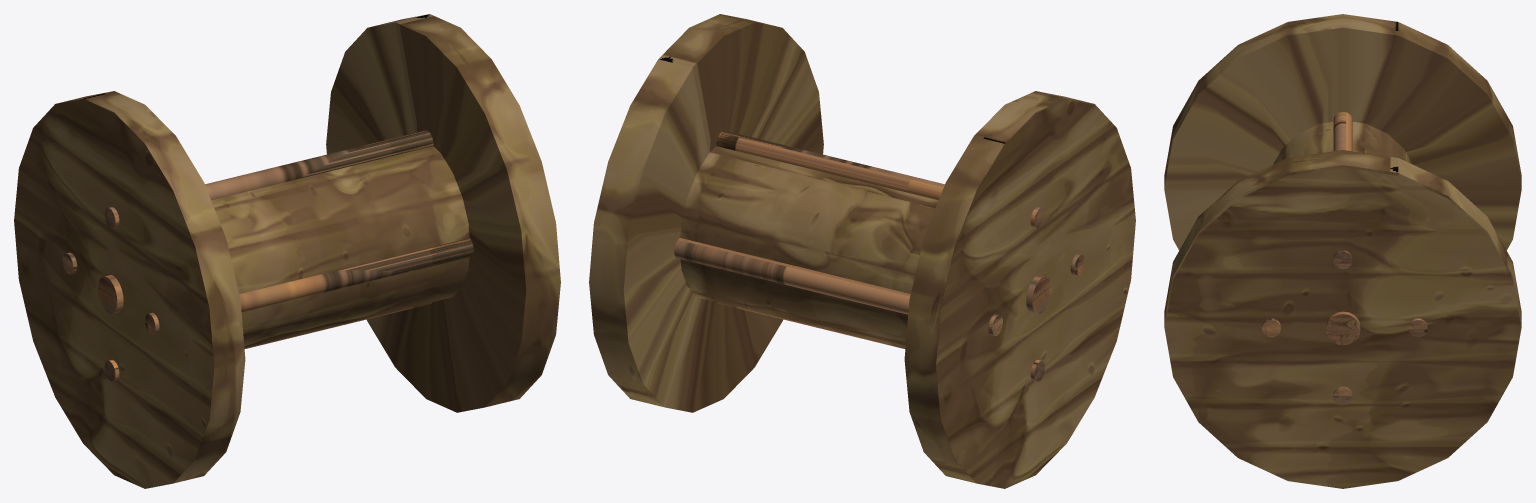
Rendered from Wooden_Cable_reel.fbx.
3 renders of one model, left to right at view 1: azimuth 30°, elevation 25°; view 2: azimuth 150°, elevation 25°; view 3: azimuth 270°, elevation 25°, orthographic. The views are drawn at different scales.
Visible parts, largest first — view 1: pCylinder22, pCylinder26, pCylinder24, pCylinder23, pCylinder27; view 2: pCylinder22, pCylinder25, pCylinder24, pCylinder23, pCylinder27; view 3: pCylinder22, pCylinder24, pCylinder23.
Part boxes in pixels (bbox=[...]): pCylinder22: bbox=[14, 14, 560, 488]; pCylinder26: bbox=[145, 238, 473, 334]; pCylinder24: bbox=[104, 130, 433, 228]; pCylinder23: bbox=[98, 275, 123, 313]; pCylinder27: bbox=[104, 302, 432, 381]; pCylinder22: bbox=[589, 14, 1135, 488]; pCylinder25: bbox=[674, 238, 1002, 335]; pCylinder24: bbox=[716, 130, 1045, 228]; pCylinder23: bbox=[1026, 275, 1051, 313]; pCylinder27: bbox=[717, 302, 1045, 381]; pCylinder22: bbox=[1164, 14, 1521, 488]; pCylinder24: bbox=[1333, 112, 1352, 269]; pCylinder23: bbox=[1326, 311, 1360, 345].
Size of the model in its own units: 0.6627 by 0.6399 by 0.6399.
